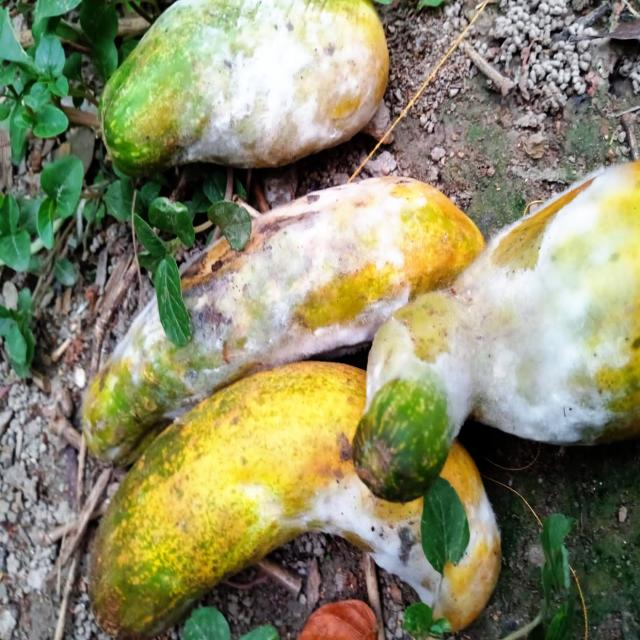Pythium-Fruit-Rot: (366, 165, 640, 445), (103, 176, 415, 418), (256, 470, 508, 610), (178, 0, 375, 167)
